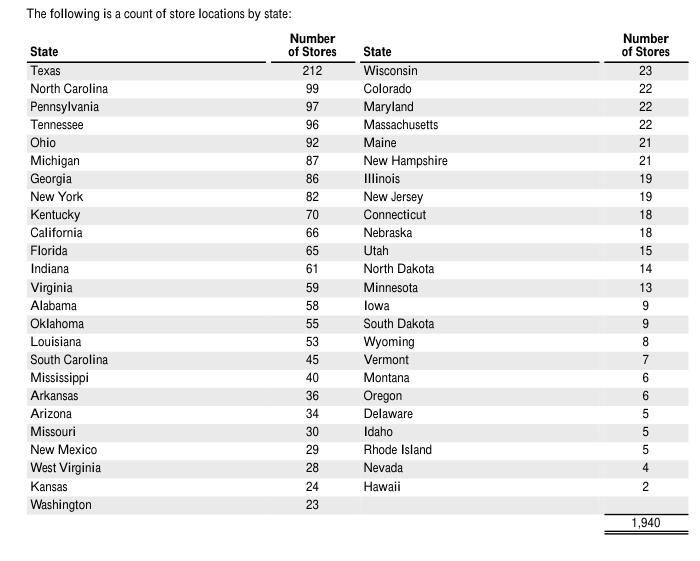table: (29, 28, 668, 529)
table column: (349, 28, 533, 529), (29, 28, 197, 529), (197, 28, 349, 529), (533, 28, 668, 529)
table column header: (29, 28, 668, 59)
table row: (29, 28, 668, 59), (29, 167, 668, 186), (29, 366, 668, 385), (29, 59, 668, 77), (29, 77, 668, 95), (29, 95, 668, 113), (29, 113, 668, 131), (29, 131, 668, 149), (29, 149, 668, 167), (29, 186, 668, 204), (29, 204, 668, 222), (29, 222, 668, 240), (29, 240, 668, 258), (29, 258, 668, 276), (29, 276, 668, 294), (29, 294, 668, 312), (29, 312, 668, 330), (29, 330, 668, 348), (29, 348, 668, 366), (29, 385, 668, 403), (29, 403, 668, 421), (29, 421, 668, 439), (29, 439, 668, 457), (29, 457, 668, 475), (29, 475, 668, 493), (29, 493, 668, 511), (29, 511, 668, 529)
